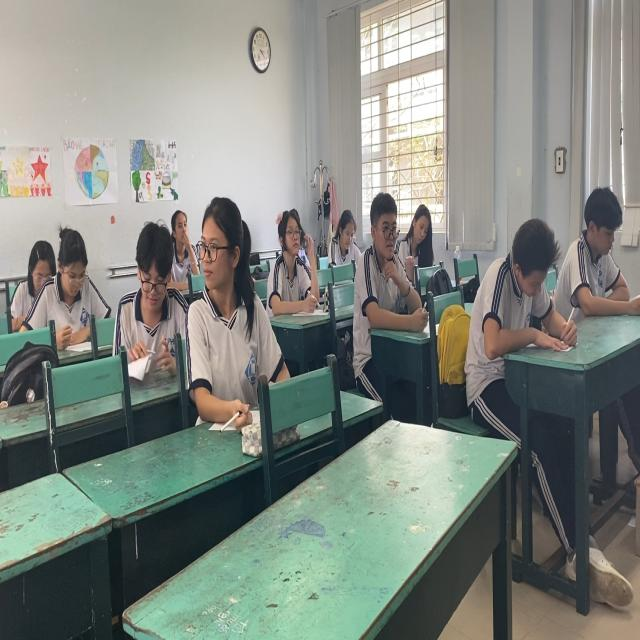cheating: (172, 177, 262, 394)
not_cheating: (464, 192, 559, 356), (19, 212, 97, 329), (561, 178, 631, 308), (116, 219, 184, 343), (266, 191, 328, 326), (353, 185, 408, 319), (326, 190, 361, 260), (404, 205, 438, 247)
